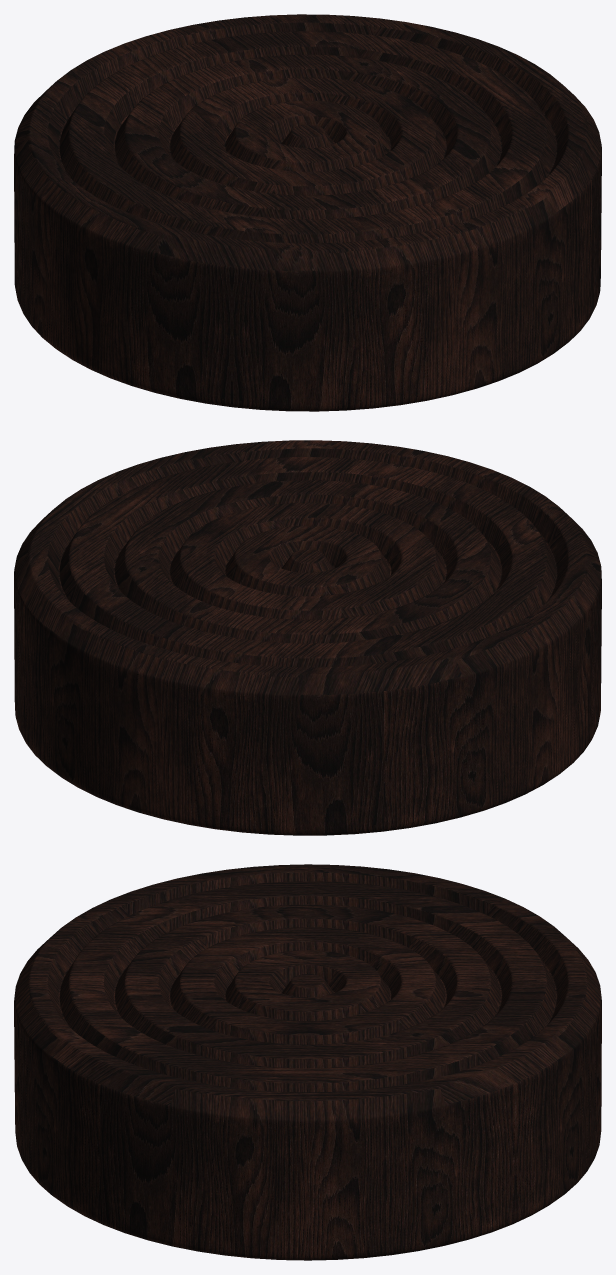
The model's file is BackGammonStone.fbx.
3 renders of one model, top to bottom at view 1: azimuth 30°, elevation 25°; view 2: azimuth 150°, elevation 25°; view 3: azimuth 270°, elevation 25°, orthographic.
Parts seen in each view (by area): view 1: NurbsPath; view 2: NurbsPath; view 3: NurbsPath.
Boxes of the visible parts, left/top/right/bottom form: NurbsPath: left=14, top=14, right=601, bottom=411; NurbsPath: left=14, top=440, right=601, bottom=835; NurbsPath: left=14, top=864, right=601, bottom=1260.
Bounding box in the file's own units: 104 × 31.35 × 104.
Materials: 1 (1 with a texture image).
